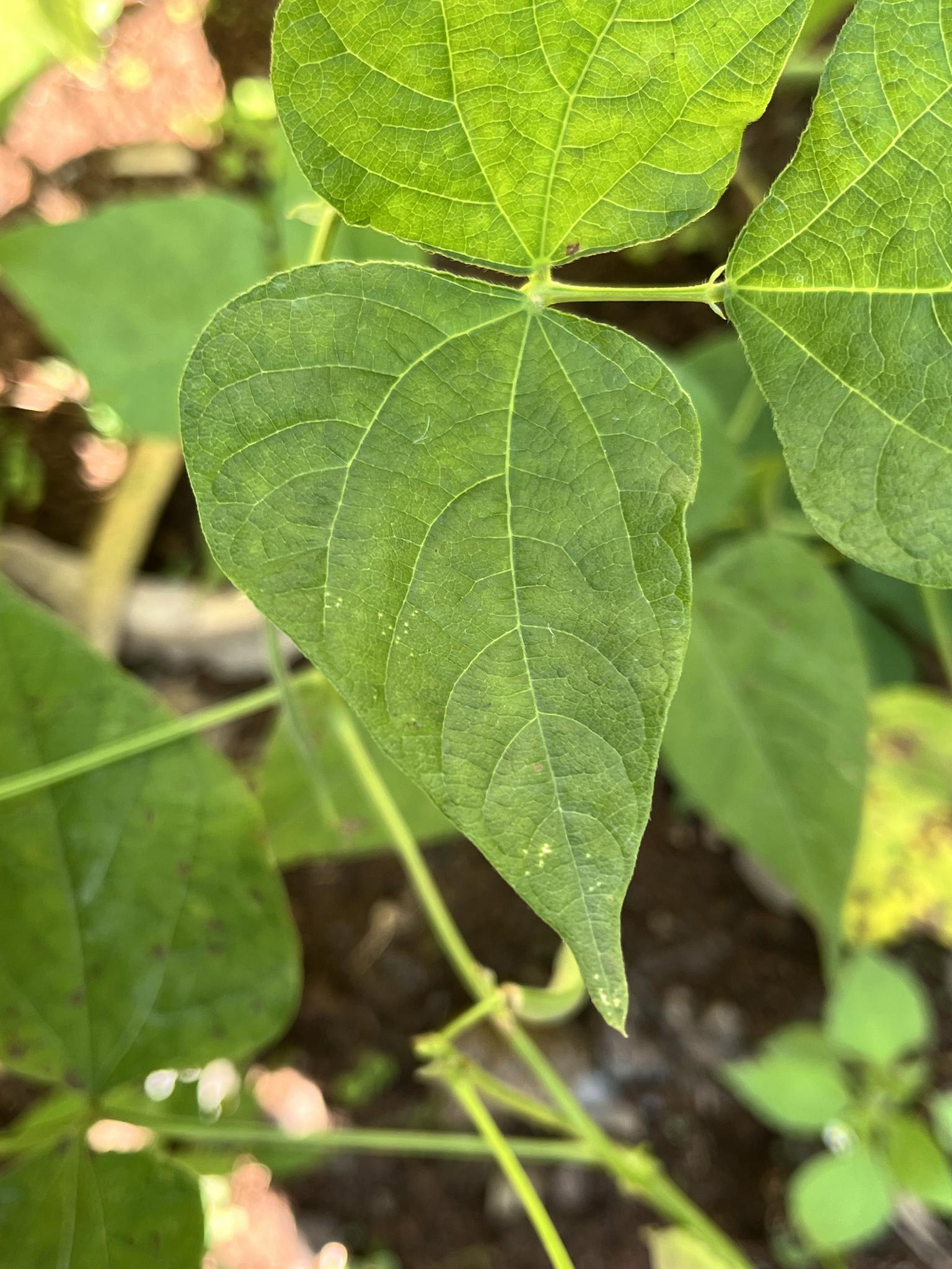sehat: (177, 247, 704, 1038)
